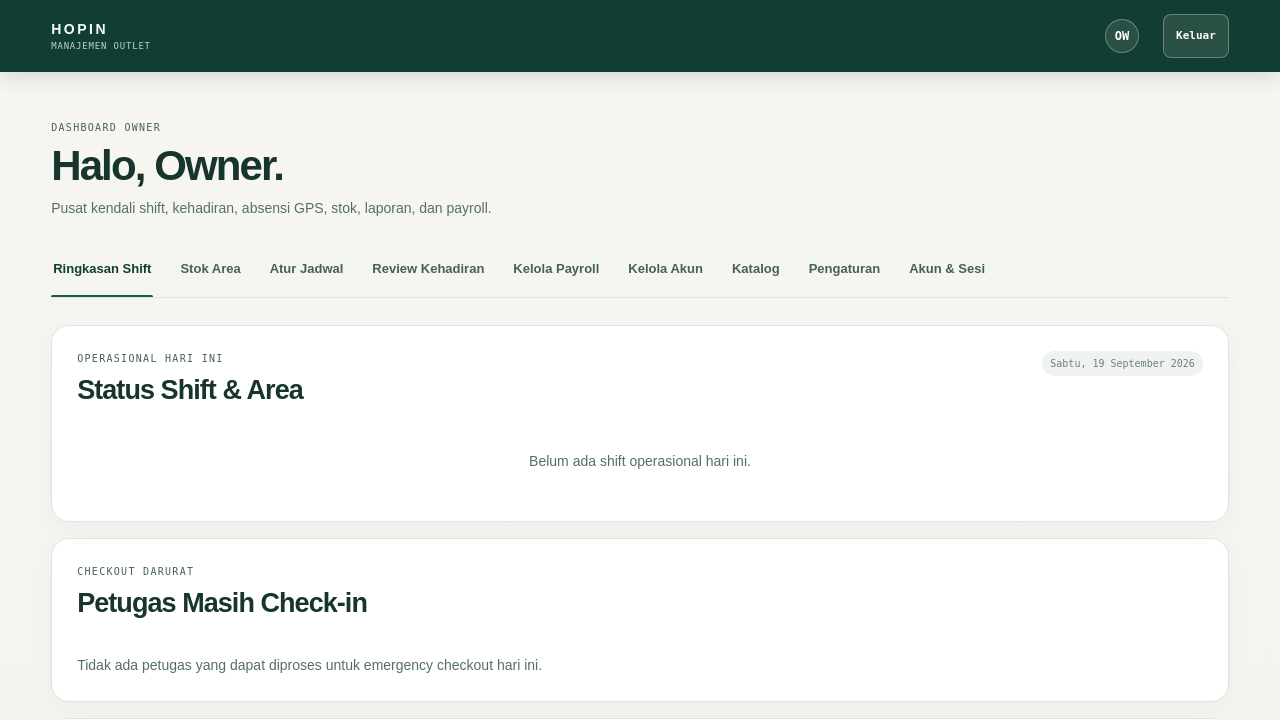
Test: ManagementView payroll period isolation › shows the reviewer note on each overtime claim row
Click the button "Review Kehadiran" at (428, 275), box [370, 253, 486, 297]
(page scrolled)
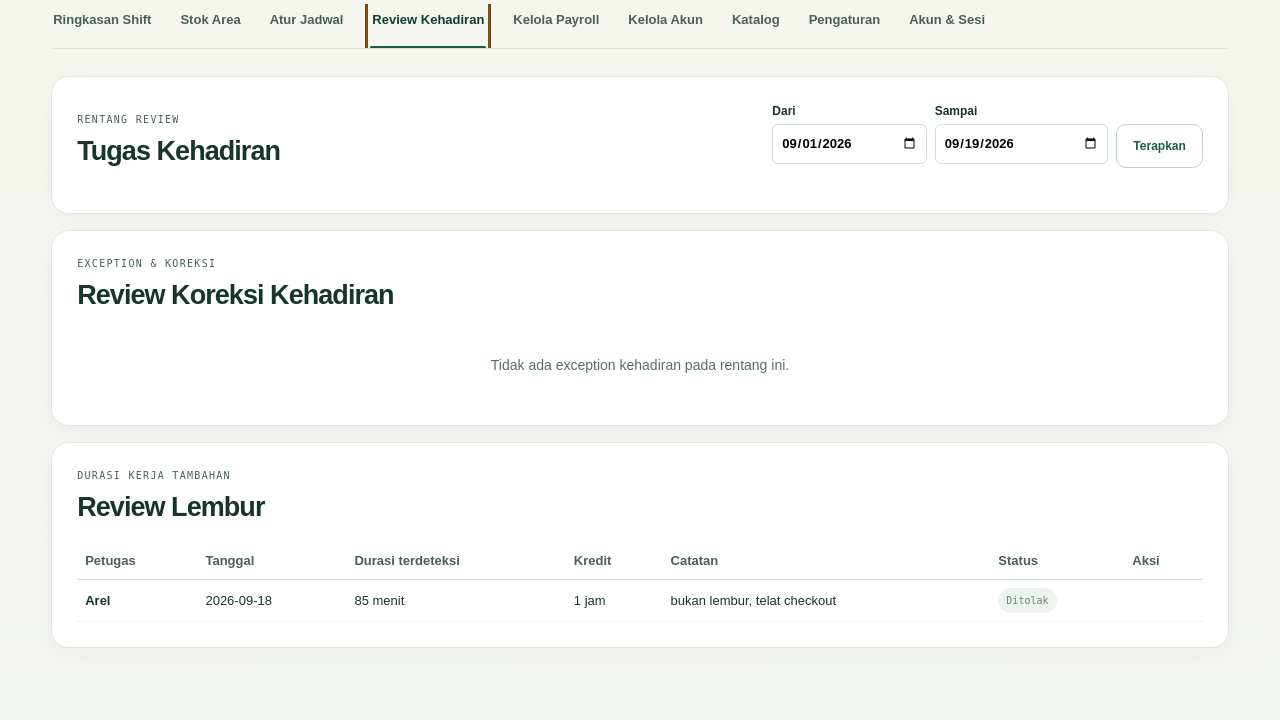
Check: the text "bukan lembur, telat checkout" is shown, box [663, 580, 990, 622]
Check: the column heading "Catatan" is shown, box [663, 544, 990, 580]
